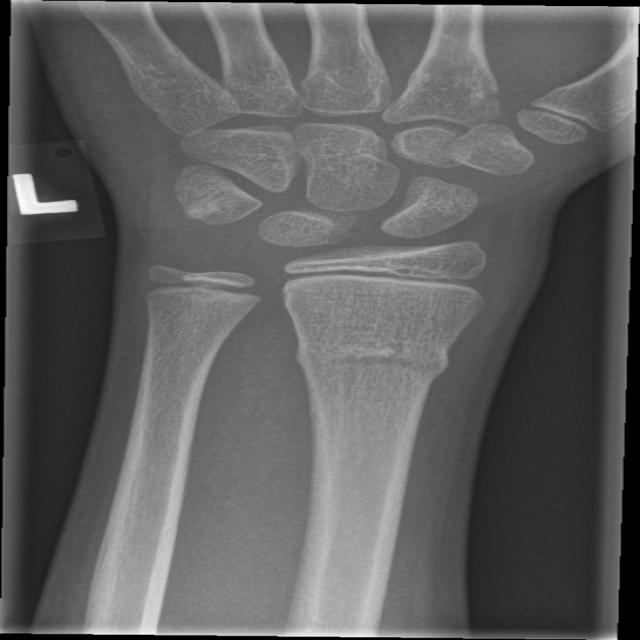radius fracture: (275, 303, 472, 420)
